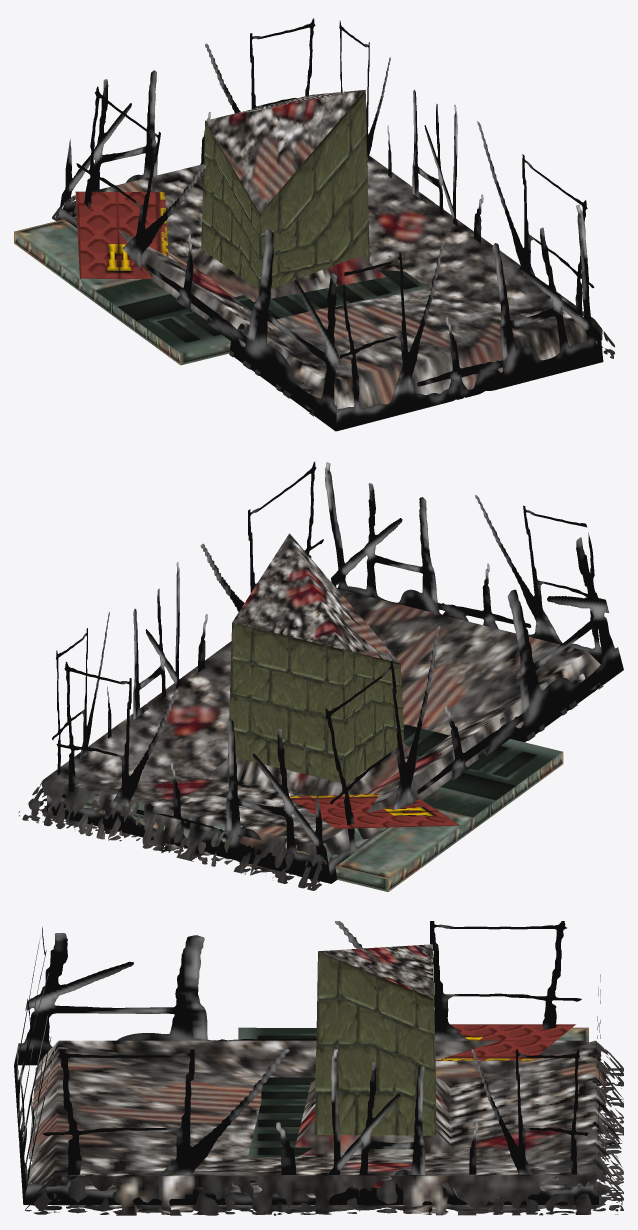
Rendered from l_residenceright_dam.glb.
3 views of the same model, one above another, from view 1: azimuth 30°, elevation 25°; view 2: azimuth 150°, elevation 25°; view 3: azimuth 270°, elevation 25° (orthographic). The views are drawn at different scales.
Visible parts, largest first — view 1: Box01; view 2: Box01; view 3: Box01.
Part boxes in pixels (left/top/right/bottom): Box01: left=14, top=18, right=614, bottom=431; Box01: left=18, top=461, right=623, bottom=891; Box01: left=14, top=921, right=623, bottom=1215.
Size of the model in its own units: 21 by 11.32 by 30.73.
Materials: 5 (5 with a texture image).
